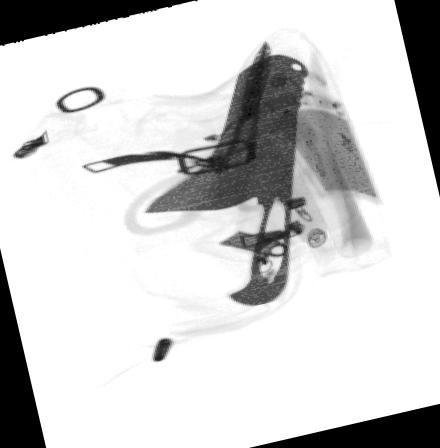Knife: (179, 62, 312, 304), (214, 42, 275, 170)
Powerbank: (271, 91, 378, 202)
Sprayer: (258, 149, 341, 265)
